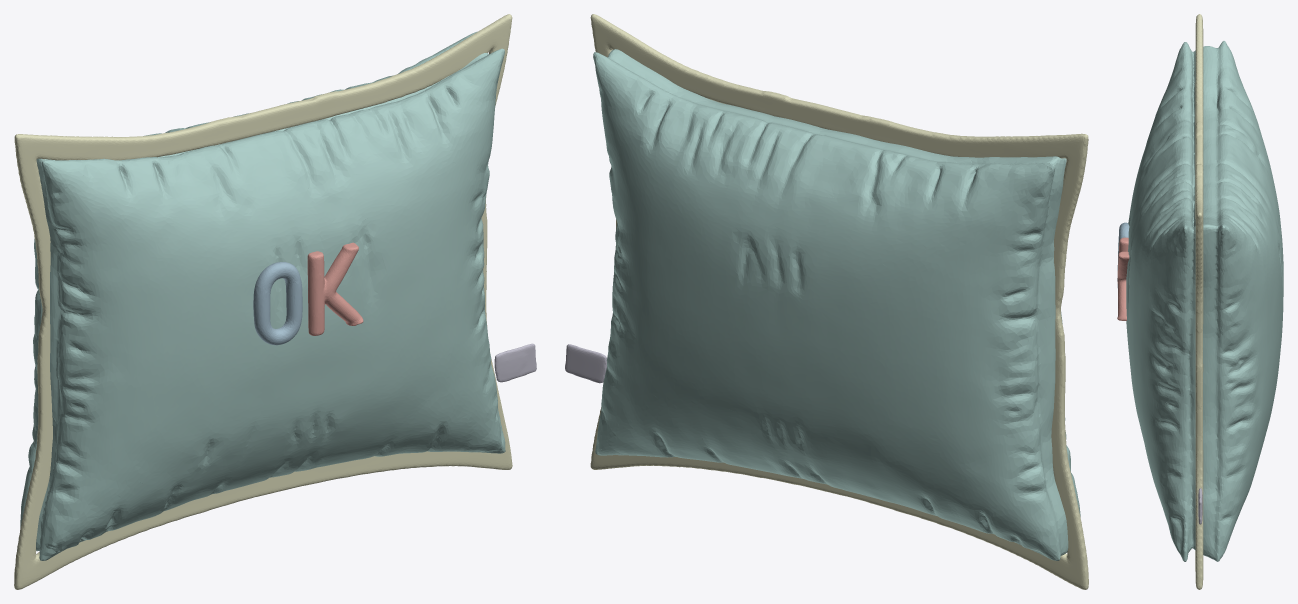
The model's file is pillow_ok.glb.
3 views of the same model, side by side, from view 1: azimuth 30°, elevation 25°; view 2: azimuth 150°, elevation 25°; view 3: azimuth 270°, elevation 25° (orthographic). The views are drawn at different scales.
Visible parts, largest first — view 1: pillow_ok_0.obj, pillow_ok_0.obj_1, pillow_ok_0.obj_3, pillow_ok_0.obj_4, pillow_ok_0.obj_2; view 2: pillow_ok_0.obj, pillow_ok_0.obj_1, pillow_ok_0.obj_2; view 3: pillow_ok_0.obj, pillow_ok_0.obj_1, pillow_ok_0.obj_3.
Part boxes in pixels (x1,y1,x2,y2): pillow_ok_0.obj: (20,31,505,560); pillow_ok_0.obj_1: (14,14,512,589); pillow_ok_0.obj_3: (307,242,363,335); pillow_ok_0.obj_4: (253,262,302,345); pillow_ok_0.obj_2: (494,343,536,382); pillow_ok_0.obj: (593,49,1080,560); pillow_ok_0.obj_1: (590,14,1088,589); pillow_ok_0.obj_2: (565,344,606,383); pillow_ok_0.obj: (1126,41,1283,561); pillow_ok_0.obj_1: (1195,14,1203,589); pillow_ok_0.obj_3: (1117,237,1129,320).
Bounding box in the file's own units: 1.91 × 1.59 × 0.6356.
